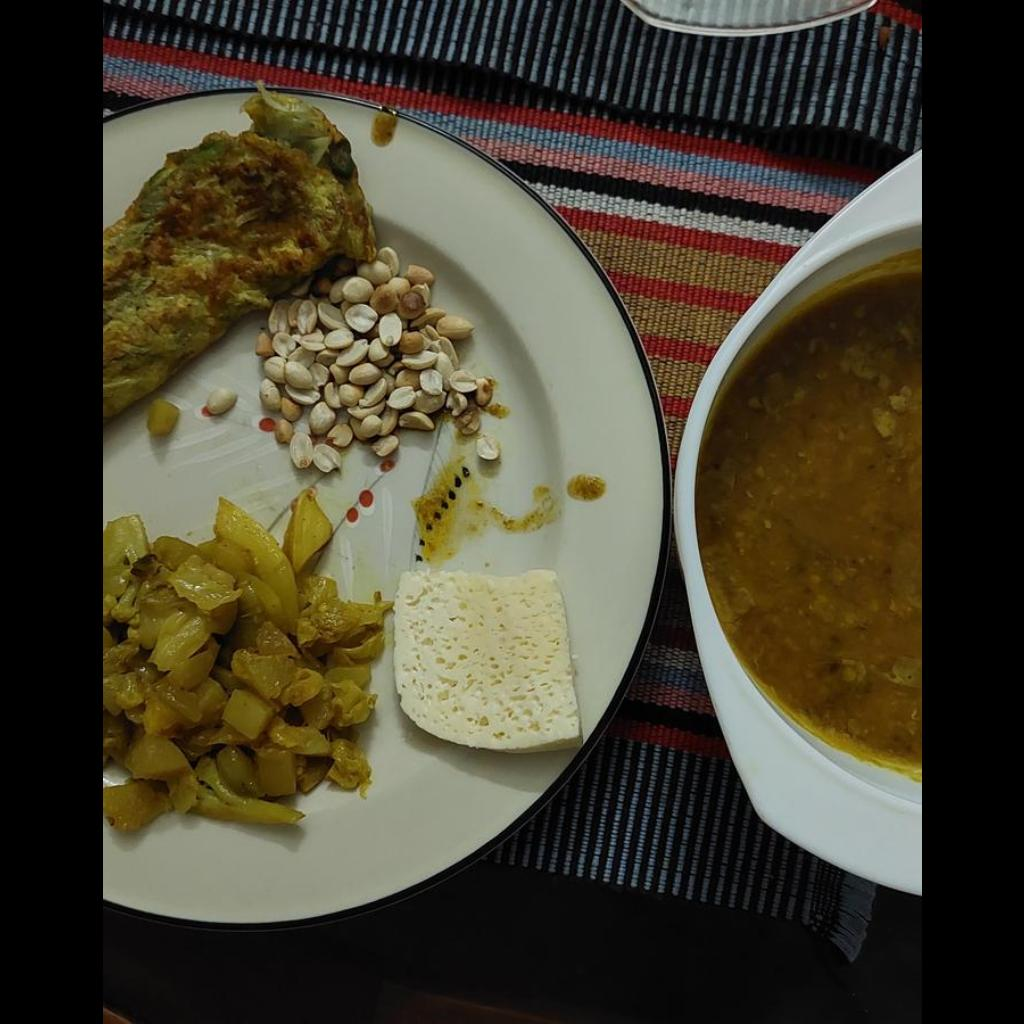badam: (249, 261, 506, 475), (201, 389, 235, 416), (476, 435, 499, 461)
daal: (696, 268, 920, 775)
egg-poached: (102, 83, 384, 425)
sweets: (391, 567, 579, 750)
vaji: (103, 482, 388, 828)
vegetable: (103, 482, 388, 828)
